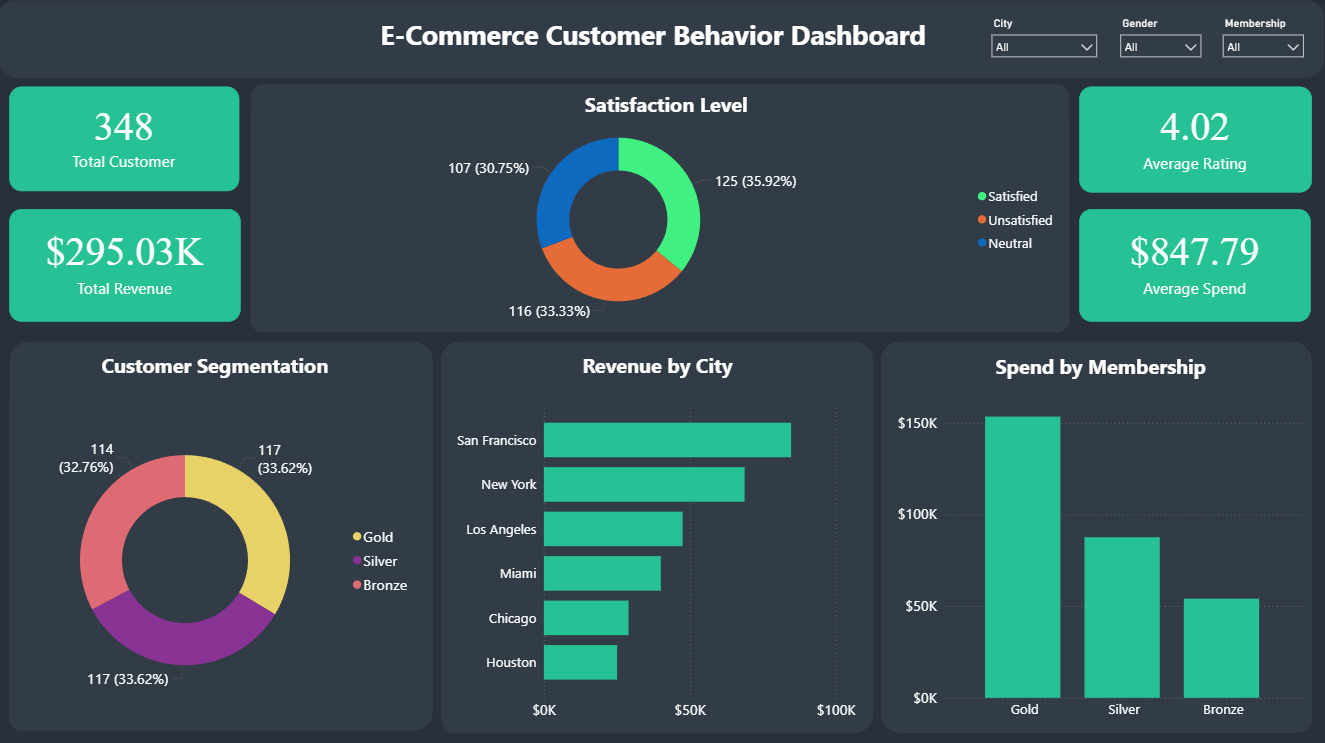

What the dashboard file says about the page in this screenshot:
{"tool":"powerbi","page":{"name":"E-Commerce Customer Behavior Dashboard","canvas":[1600,900],"ordinal":0},"visuals":[{"type":"shape","box":[0,0,1600,95.6],"z":0},{"type":"shape","box":[1065,412.5,520.5,472.3],"z":0,"group":"g3"},{"type":"shape","box":[533.5,413,522.5,472.6],"z":0,"group":"g2"},{"type":"shape","box":[305,102.5,987.7,300],"z":1000,"group":"g4"},{"type":"cardVisual","fields":{"Data":["E-commerce Customer Behavior_final.Card Total Customer"]},"box":[13.6,105.6,277.5,126.7],"z":1000},{"type":"clusteredBarChart","fields":{"Category":["E-commerce Customer Behavior_final.City"],"Y":["Sum(E-commerce Customer Behavior_final.Total_Spend)"]},"box":[535,470.5,510.3,415.1],"z":1000,"group":"g2"},{"type":"cardVisual","fields":{"Data":["E-commerce Customer Behavior_final.Card Avg Rating"]},"box":[1304.5,105.6,280.5,128.2],"z":2000},{"type":"textbox","box":[684.3,420.5,221.7,48.3],"z":2000,"group":"g2"},{"type":"cardVisual","fields":{"Data":["E-commerce Customer Behavior_final.Card Avg Spend"]},"box":[1304.4,253.2,279.2,135.8],"z":3000},{"type":"cardVisual","fields":{"Data":["E-commerce Customer Behavior_final.Card Total Revenue"]},"box":[13.7,253.2,279.2,135.8],"z":5000},{"type":"textbox","box":[1188.6,421.1,283.9,48.8],"z":5000,"group":"g3"},{"type":"shape","box":[13.3,413.3,511.2,469.7],"z":6000,"group":"g1"},{"type":"group","id":"g1","title":"Group 1","box":[13.3,413.3,511.2,469.7],"z":7000},{"type":"donutChart","fields":{"Category":["E-commerce Customer Behavior_final.Membership_Type"],"Y":["CountNonNull(E-commerce Customer Behavior_final.Membership_Type)"]},"box":[13.3,470.4,500.7,412.6],"z":7000,"group":"g1"},{"type":"group","id":"g2","title":"Group 2","box":[533.5,413,522.5,472.6],"z":8000},{"type":"textbox","box":[103.3,420.3,315.2,48.3],"z":8001,"group":"g1"},{"type":"group","id":"g3","title":"Group 3","box":[1065,412.5,520,473.8],"z":9000},{"type":"clusteredColumnChart","fields":{"Y":["Sum(E-commerce Customer Behavior_final.Total_Spend)"],"Category":["E-commerce Customer Behavior_final.Membership_Type"]},"box":[1074.5,468.1,511.6,415.8],"z":9000,"group":"g3"},{"type":"group","id":"g4","title":"Group 4","box":[304.6,102.5,989.3,300.1],"z":10000},{"type":"donutChart","fields":{"Category":["E-commerce Customer Behavior_final.Satisfaction_Level"],"Y":["CountNonNull(E-commerce Customer Behavior_final.Customer_ID)"]},"box":[304.6,129.6,988.3,272.2],"z":12000,"group":"g4"},{"type":"textbox","box":[564.8,106.3,481.4,47.5],"z":14000,"group":"g4"},{"type":"textbox","box":[450.9,16.6,678.6,61.8],"z":16000},{"type":"slicer","fields":{"Values":["E-commerce Customer Behavior_final.City"]},"box":[1188.4,16.7,148,61],"z":22500},{"type":"slicer","fields":{"Values":["E-commerce Customer Behavior_final.Gender"]},"box":[1343.1,16.7,117.7,60.8],"z":30000},{"type":"slicer","fields":{"Values":["E-commerce Customer Behavior_final.Membership_Type"]},"box":[1466.7,16.7,117.8,61.1],"z":35000}]}

Visuals, with their boxes in screenshot pixels (x1, y1, x2, y2), scaled from the page's 1600x900 canvas onto the 1325x743 screenshot:
shape: bbox=(0, 0, 1324, 79)
shape: bbox=(882, 341, 1313, 730)
shape: bbox=(442, 341, 874, 731)
shape: bbox=(253, 85, 1071, 332)
cardVisual - E-commerce Customer Behavior_final.Card Total Customer: bbox=(11, 87, 241, 192)
clusteredBarChart - E-commerce Customer Behavior_final.City x Sum(E-commerce Customer Behavior_final.Total_Spend): bbox=(443, 388, 866, 731)
cardVisual - E-commerce Customer Behavior_final.Card Avg Rating: bbox=(1080, 87, 1313, 193)
textbox: bbox=(567, 347, 750, 387)
cardVisual - E-commerce Customer Behavior_final.Card Avg Spend: bbox=(1080, 209, 1311, 321)
cardVisual - E-commerce Customer Behavior_final.Card Total Revenue: bbox=(11, 209, 243, 321)
textbox: bbox=(984, 348, 1219, 388)
shape: bbox=(11, 341, 434, 729)
"Group 1" group: bbox=(11, 341, 434, 729)
donutChart - E-commerce Customer Behavior_final.Membership_Type x CountNonNull(E-commerce Customer Behavior_final.Membership_Type): bbox=(11, 388, 426, 729)
"Group 2" group: bbox=(442, 341, 874, 731)
textbox: bbox=(86, 347, 347, 387)
"Group 3" group: bbox=(882, 341, 1313, 732)
clusteredColumnChart - Sum(E-commerce Customer Behavior_final.Total_Spend) x E-commerce Customer Behavior_final.Membership_Type: bbox=(890, 386, 1313, 730)
"Group 4" group: bbox=(252, 85, 1072, 332)
donutChart - E-commerce Customer Behavior_final.Satisfaction_Level x CountNonNull(E-commerce Customer Behavior_final.Customer_ID): bbox=(252, 107, 1071, 332)
textbox: bbox=(468, 88, 866, 127)
textbox: bbox=(373, 14, 935, 65)
slicer - E-commerce Customer Behavior_final.City: bbox=(984, 14, 1107, 64)
slicer - E-commerce Customer Behavior_final.Gender: bbox=(1112, 14, 1210, 64)
slicer - E-commerce Customer Behavior_final.Membership_Type: bbox=(1215, 14, 1312, 64)
